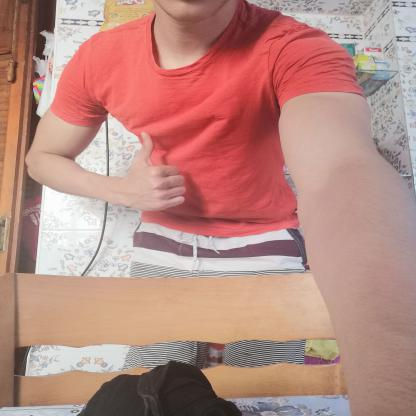ALIF: (110, 118, 201, 220)
